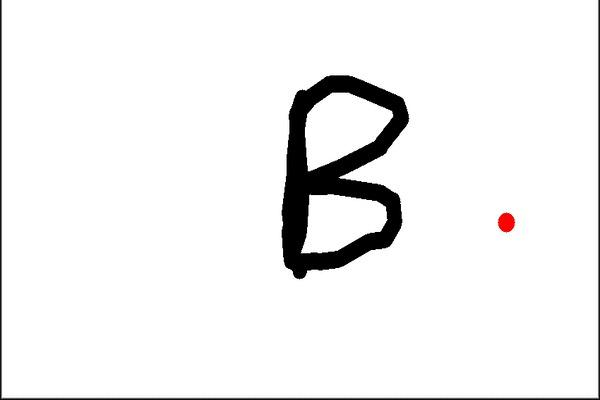B: (273, 67, 412, 291)
